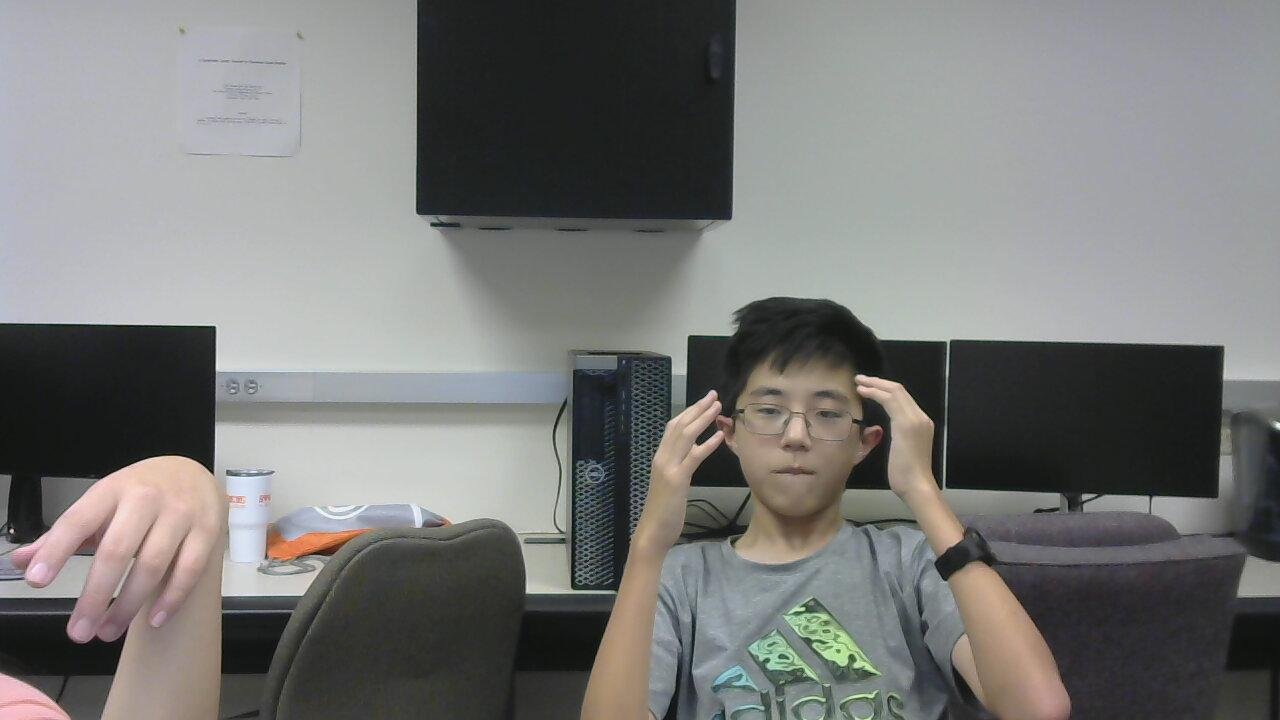hands: (21, 439, 231, 642), (626, 385, 724, 545), (845, 359, 952, 491)
